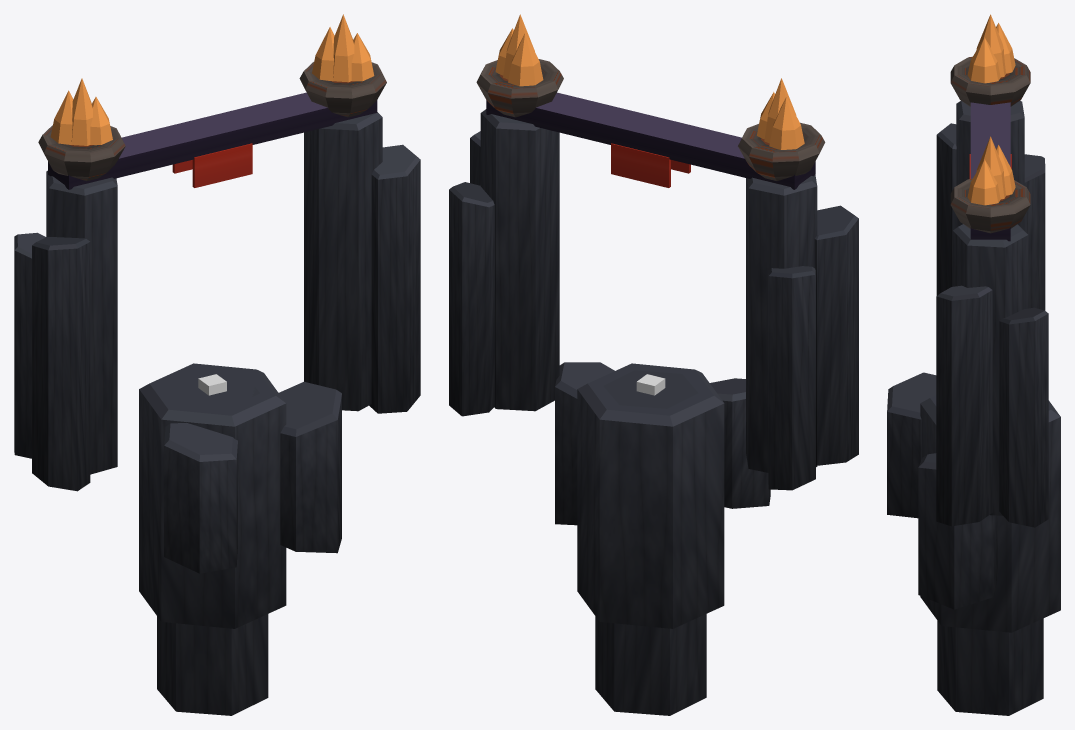
File: EmberPeak_Kit.fbx
3 views of the same model, side by side, from view 1: azimuth 30°, elevation 25°; view 2: azimuth 150°, elevation 25°; view 3: azimuth 270°, elevation 25° (orthographic). The views are drawn at different scales.
Parts seen in each view (by area): view 1: EP_EmberGate, EP_RouteStone, EP_BasaltStep, EP_GateFire; view 2: EP_EmberGate, EP_RouteStone, EP_BasaltStep, EP_GateFire; view 3: EP_EmberGate, EP_RouteStone, EP_BasaltStep, EP_GateFire.
Boxes of the visible parts, x1=… form: EP_EmberGate: x1=14, y1=62, x2=420, y2=491; EP_RouteStone: x1=139, y1=363, x2=341, y2=628; EP_BasaltStep: x1=157, y1=386, x2=268, y2=715; EP_GateFire: x1=50, y1=14, x2=374, y2=145; EP_EmberGate: x1=449, y1=59, x2=858, y2=490; EP_RouteStone: x1=555, y1=362, x2=770, y2=628; EP_BasaltStep: x1=595, y1=370, x2=706, y2=715; EP_GateFire: x1=495, y1=14, x2=804, y2=149; EP_EmberGate: x1=936, y1=56, x2=1048, y2=527; EP_RouteStone: x1=887, y1=372, x2=1060, y2=632; EP_BasaltStep: x1=937, y1=618, x2=1043, y2=715; EP_GateFire: x1=967, y1=14, x2=1015, y2=205.
Bounding box in the file's own units: 20.7 × 34.1 × 8.67.
Materials: 1 (1 with a texture image).
